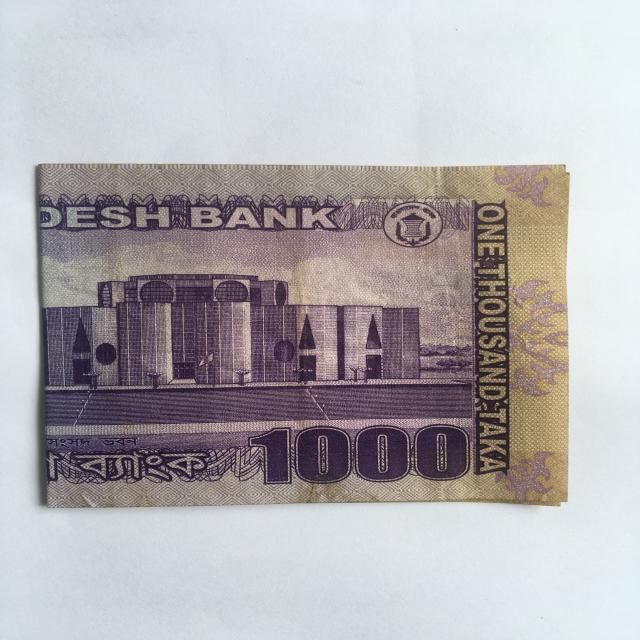Taka: (30, 157, 565, 518)
